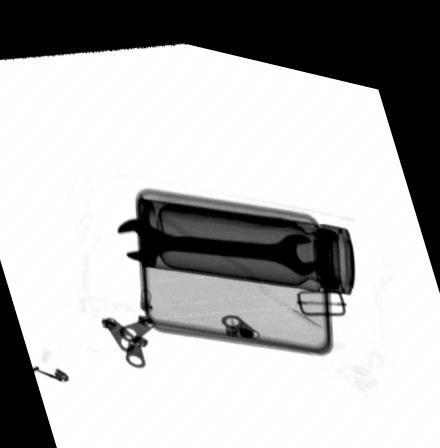Wrench: (115, 210, 326, 264)
